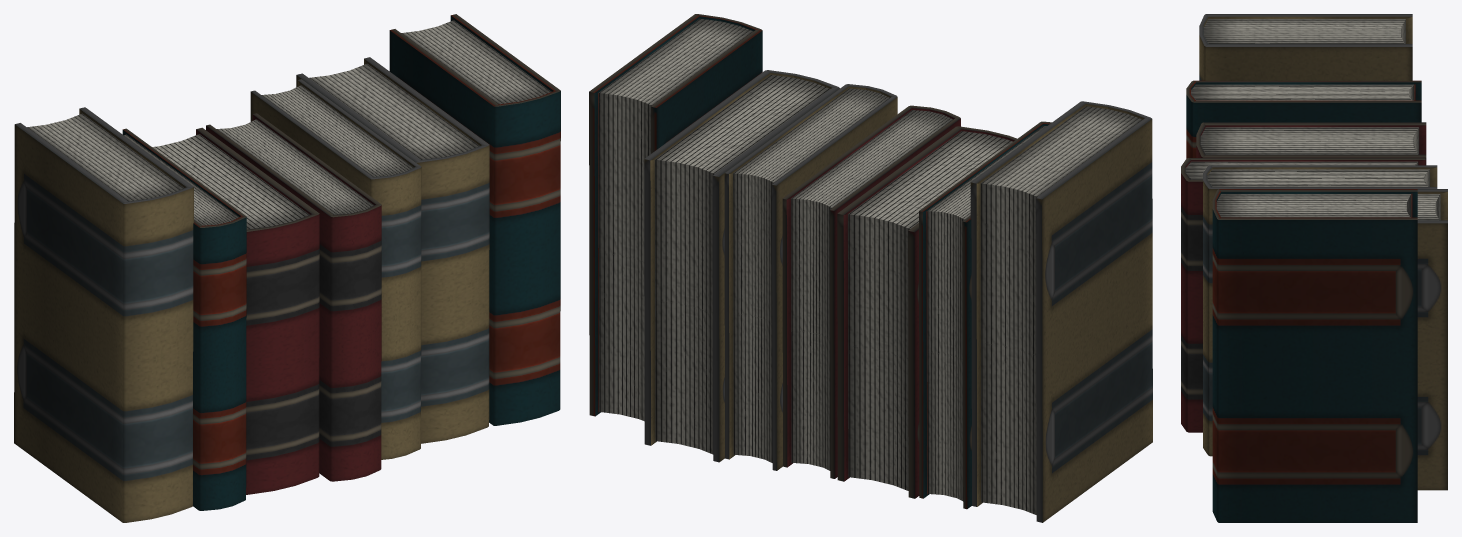
Rendered from CI_073_books_medium.glb.
3 views of the same model, side by side, from view 1: azimuth 30°, elevation 25°; view 2: azimuth 150°, elevation 25°; view 3: azimuth 270°, elevation 25° (orthographic). The views are drawn at different scales.
Visible parts, largest first — view 1: book_2, book_7, book_5, book_6, book_1, book_4, book_3; view 2: book_2, book_5, book_7, book_6, book_4, book_1, book_3; view 3: book_7, book_2, book_3, book_5, book_4, book_6, book_1.
Part boxes in pixels (<box>): book_2: <box>14,107,193,522</box>; book_7: <box>389,14,560,425</box>; book_5: <box>296,57,489,443</box>; book_6: <box>152,127,319,494</box>; book_1: <box>206,113,381,481</box>; book_4: <box>250,79,421,459</box>; book_3: <box>122,128,246,510</box>; book_2: <box>970,101,1152,522</box>; book_5: <box>644,70,839,462</box>; book_7: <box>589,14,762,421</box>; book_6: <box>837,126,1016,498</box>; book_4: <box>724,84,897,470</box>; book_1: <box>782,105,960,478</box>; book_3: <box>919,121,1051,509</box>; book_7: <box>1212,189,1417,522</box>; book_2: <box>1199,14,1412,80</box>; book_3: <box>1186,80,1421,158</box>; book_5: <box>1417,189,1447,490</box>; book_4: <box>1203,165,1437,456</box>; book_6: <box>1196,122,1426,164</box>; book_1: <box>1181,158,1425,432</box>.
Size of the model in its own units: 1.09 by 0.7461 by 0.595.
Materials: 1 (1 with a texture image).
